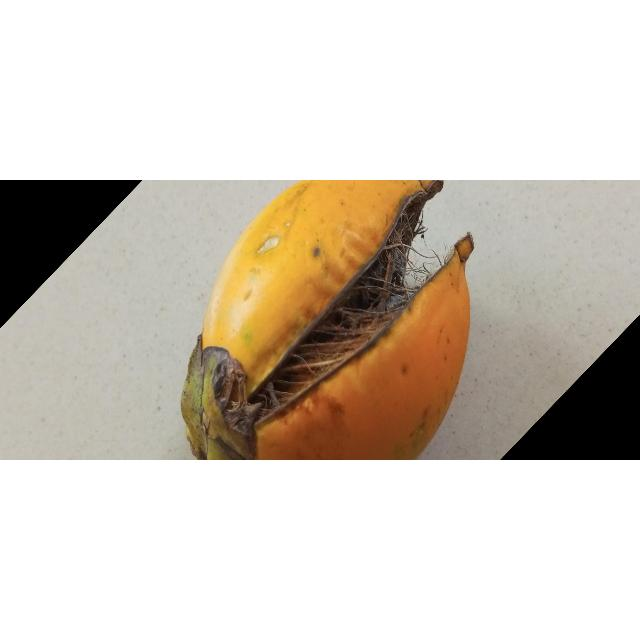damaged: (181, 180, 474, 461)
